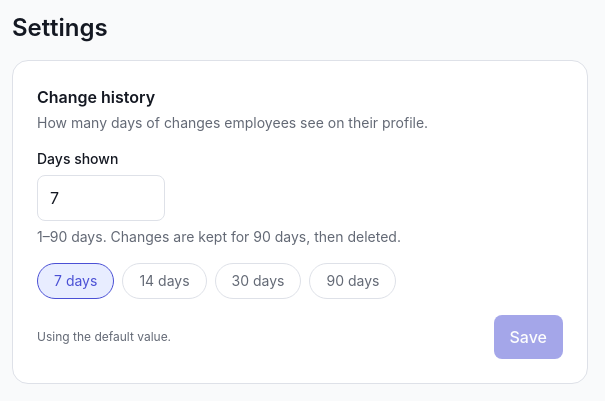
it: SettingsPage › validates 1 to the retention and saves with presets
The width and height of the screenshot is (605, 401).
Later steps or results of the test are not shown.
Expected: the text "Using the default value." is shown, [37,329,171,345]
Expected: the button "Save" is disabled, [494,315,563,359]
Replace the text in the number field labelled "Days shown" with "91" at (101, 198), box [37,175,165,221]
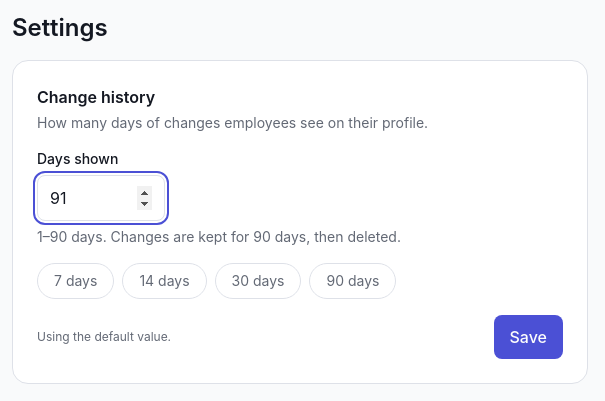
Click the button "Save" at (528, 337), box [494,315,563,359]
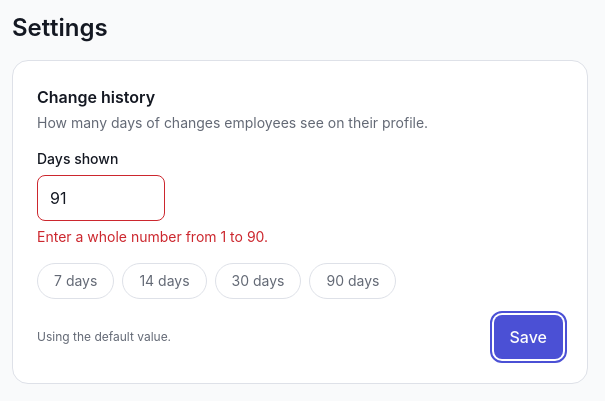
Expected: the text "Enter a whole number from 1 to 90." is shown, [37,228,268,245]
